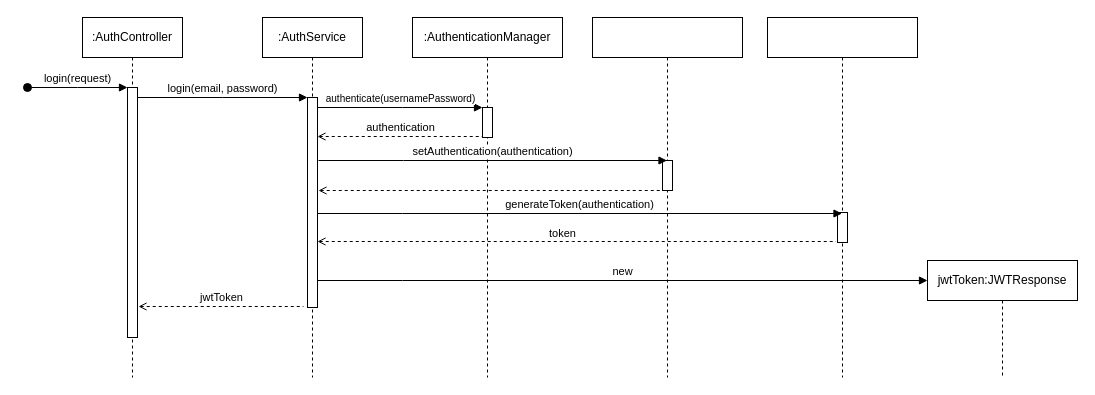
This 1095x395 diagram has some shape labels left out. The centre of each missing label's shape, as x and y in pixels:
":JWTManager" goes at [842,197].
":SecurityContextHolder" goes at [667,197].
